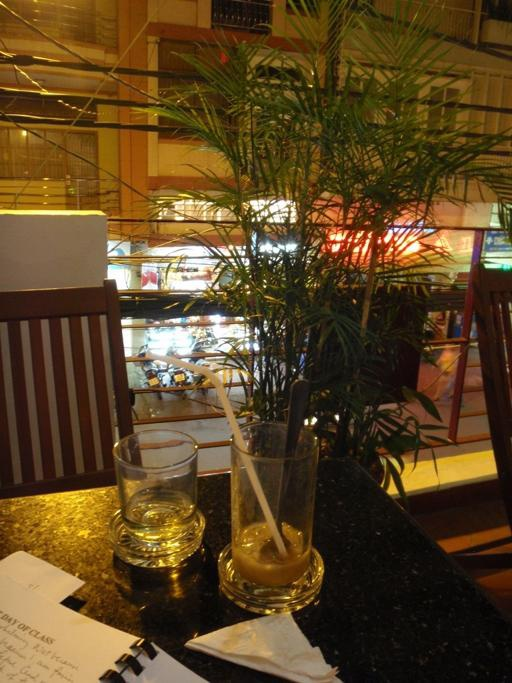non-vehicle: (132, 335, 166, 400), (186, 329, 215, 396), (161, 342, 189, 399)
